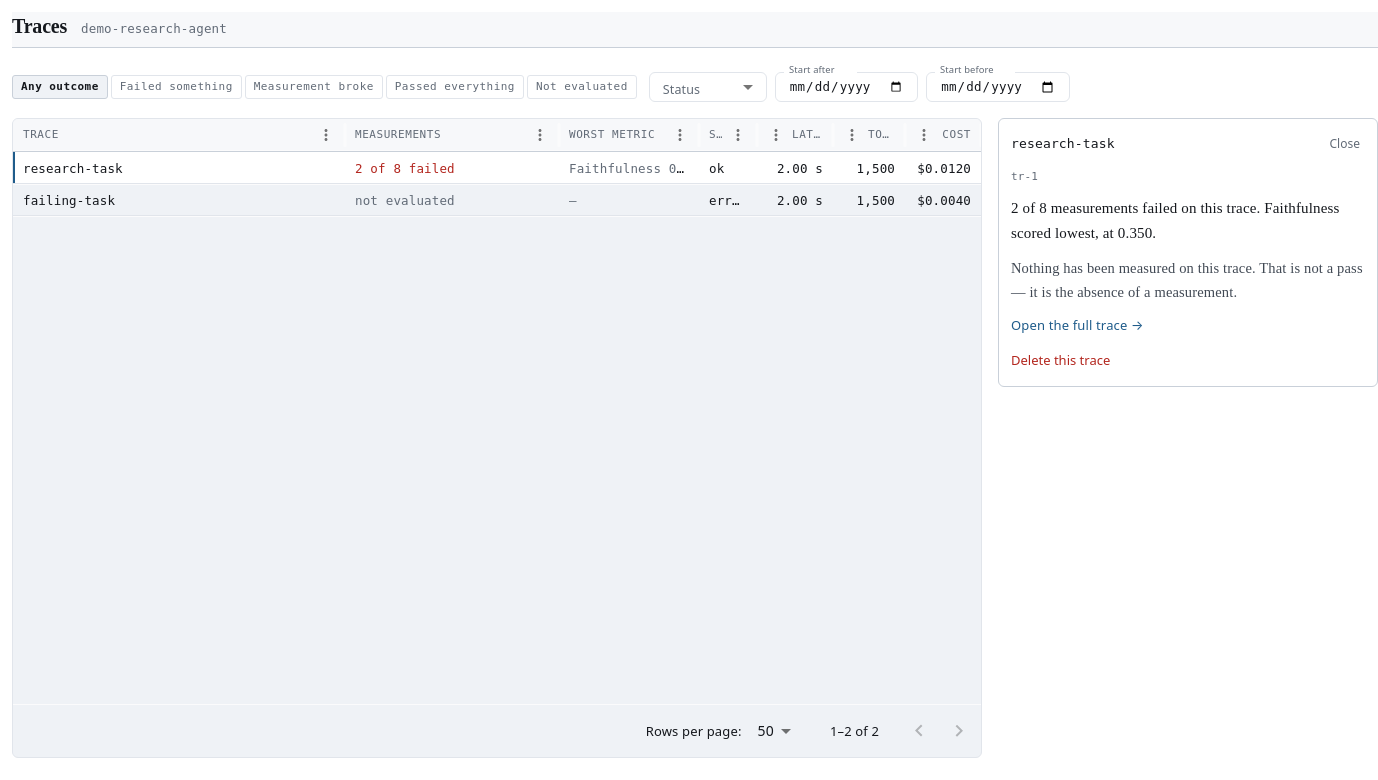
it: TracesPage › requires the word to be typed before deletion is possible
The image size is (1378, 780).
Click the button with test id "delete-start". click: [1061, 360]
box: left=1011, top=347, right=1110, bottom=374
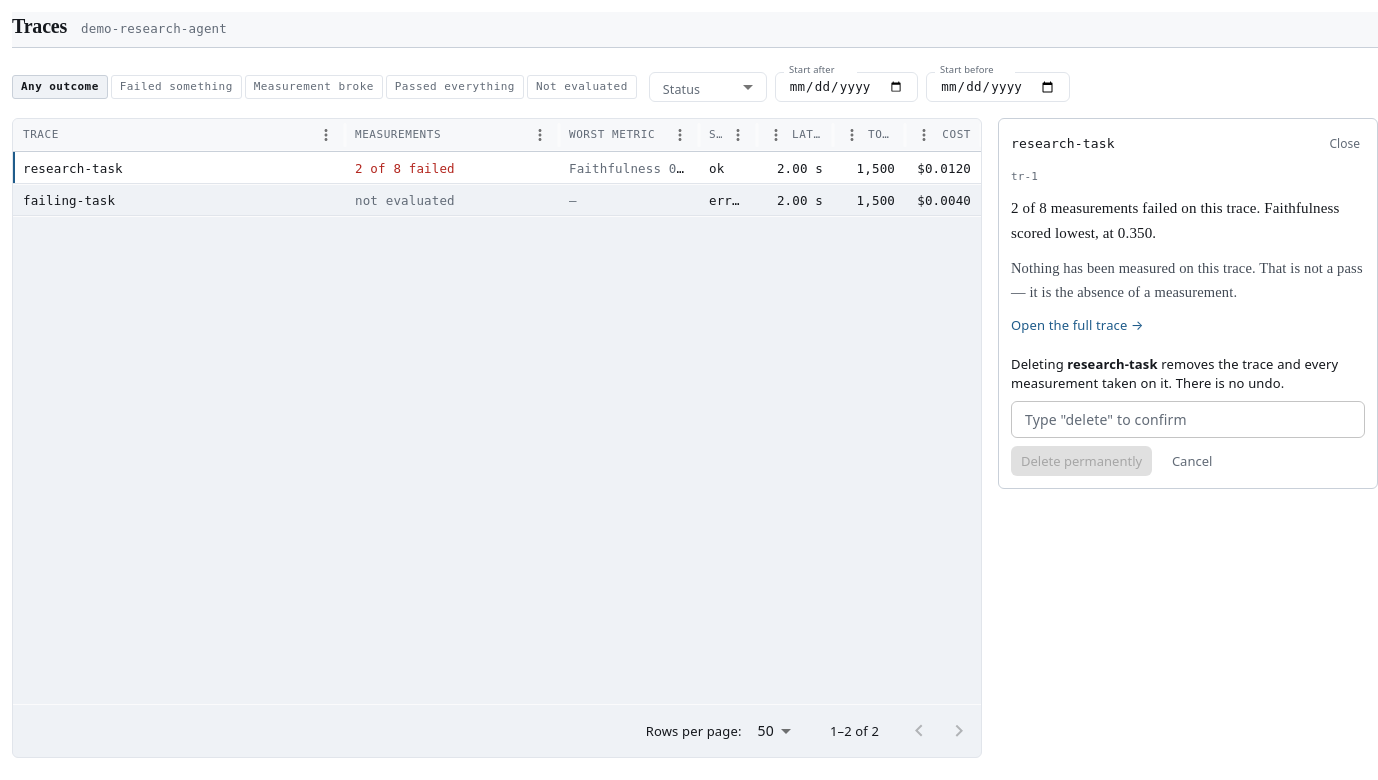
Expected: the button with test id "delete-commit" is disabled, left=1011, top=446, right=1152, bottom=476
Type "delete" into the field labelled "Type \"delete\" to confirm". click: [1188, 419]
box: left=1011, top=400, right=1365, bottom=438
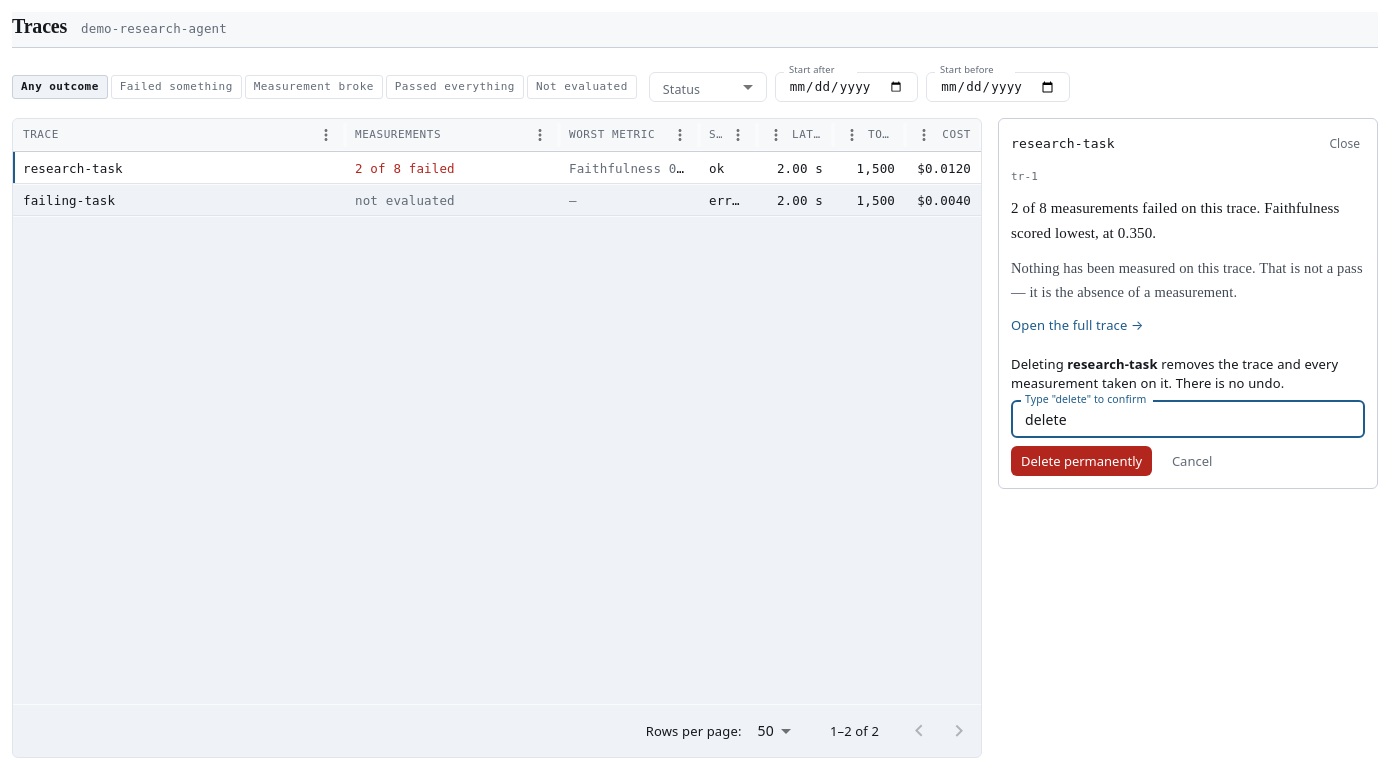
Expected: the button with test id "delete-commit" is enabled, left=1011, top=446, right=1152, bottom=476
